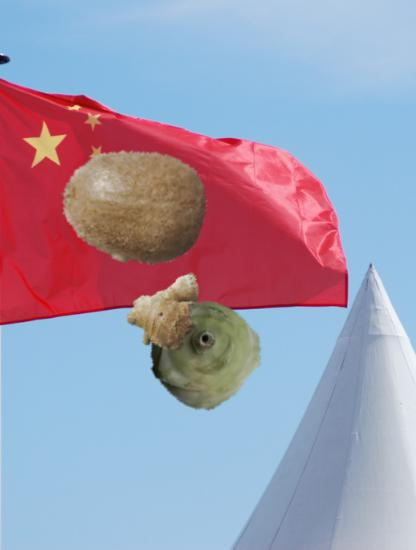Ginger: (123, 265, 210, 352)
Kiwi: (60, 131, 209, 280)
Kohlrabi: (142, 287, 264, 409)
